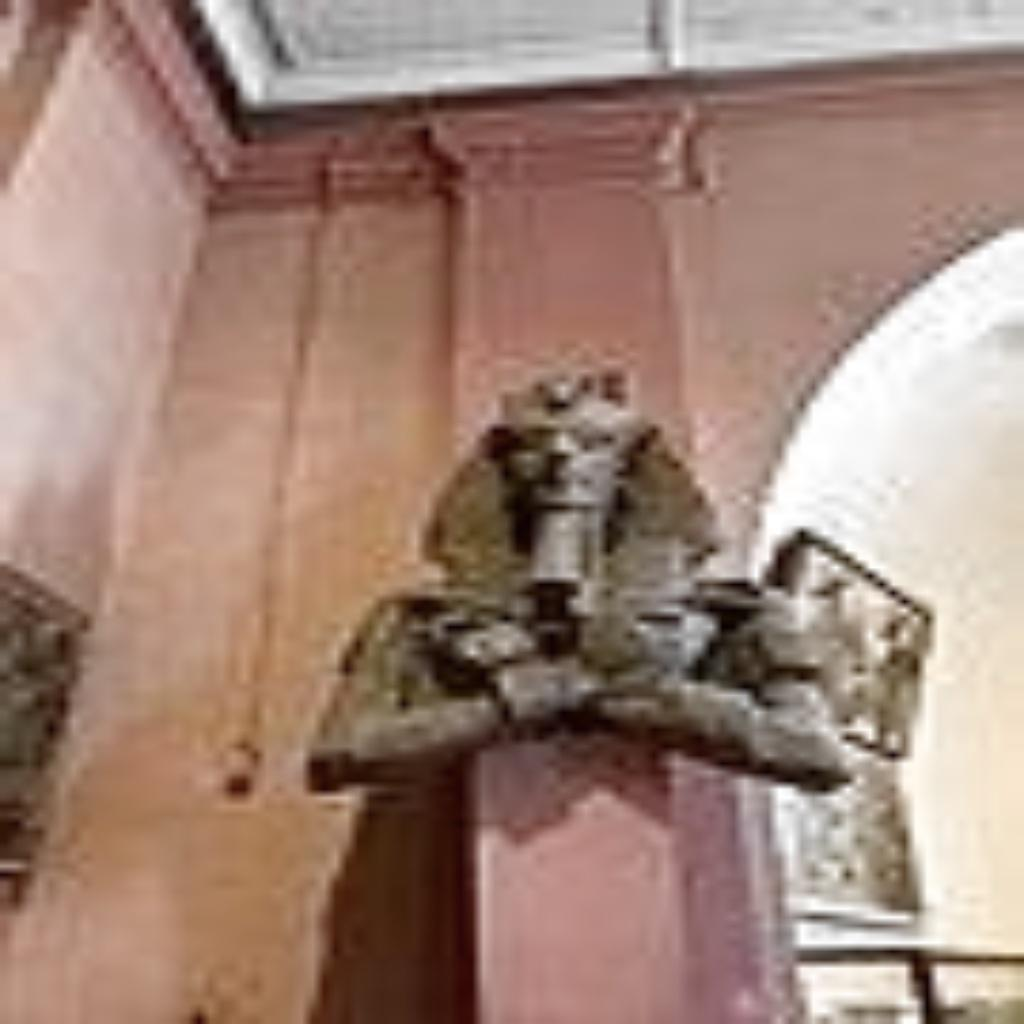Akhenaten: (287, 360, 866, 802)
